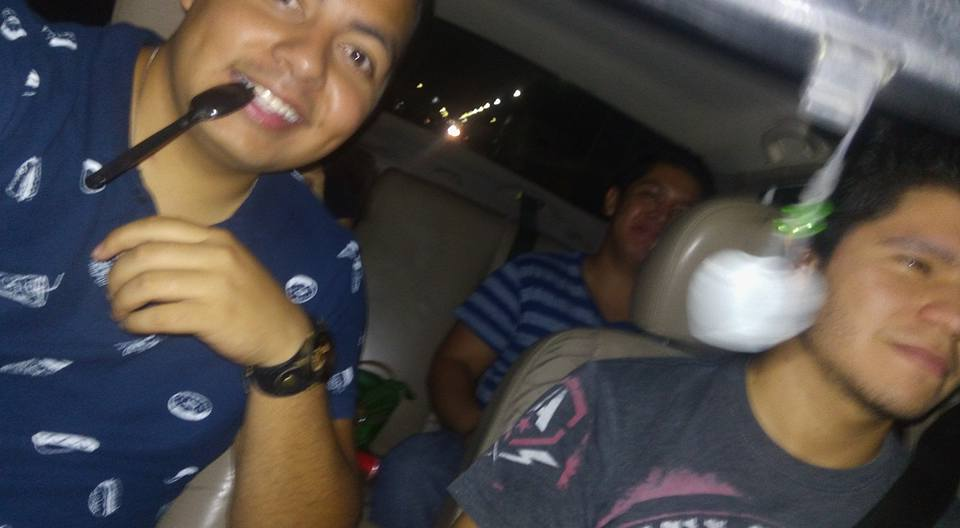Yoshi: (137, 8, 430, 420)
